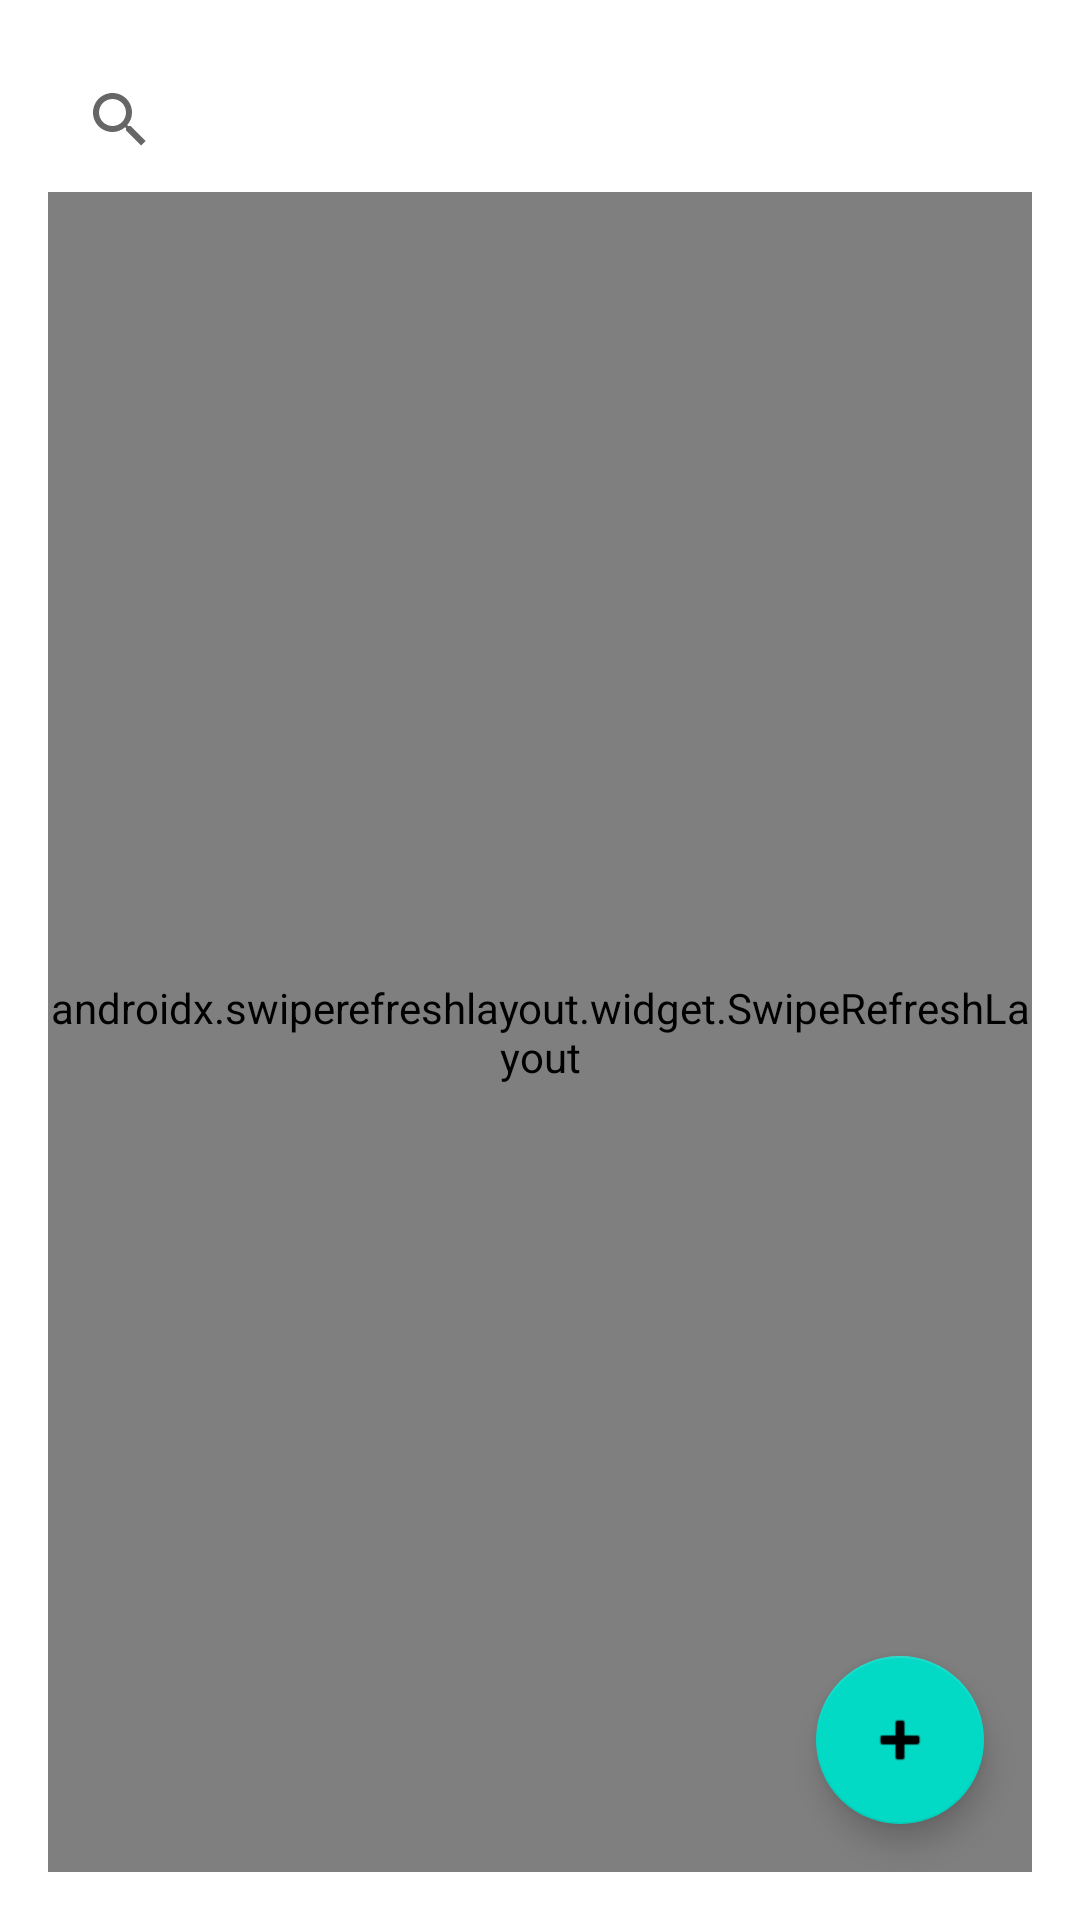

Screen size 1080w x 1920h. Icon name, then its box in pixels as bbox=[x1, y1, x2, y2]:
Create new community: bbox=[816, 1656, 984, 1824]
